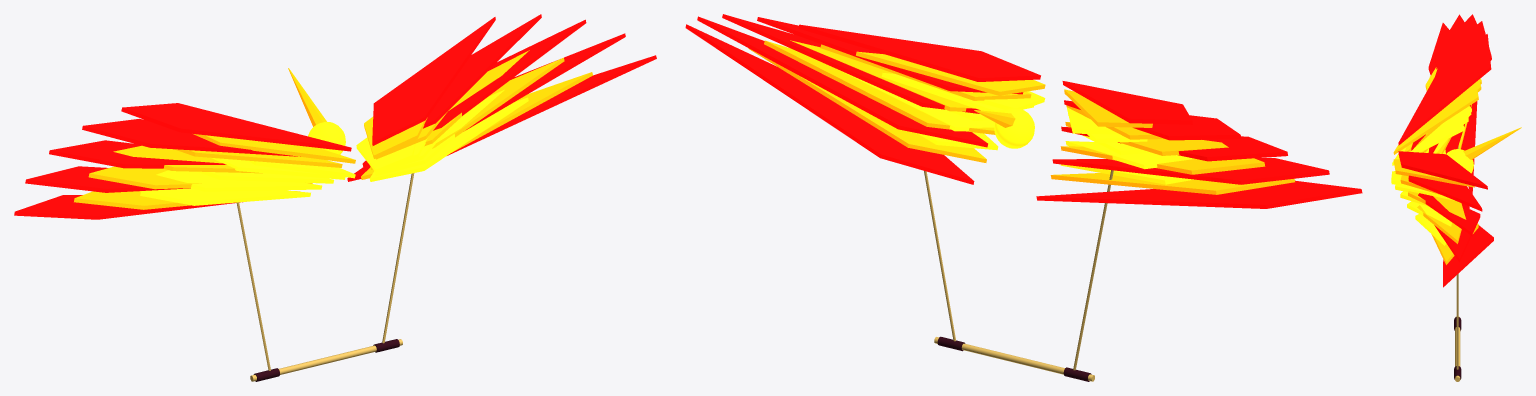
Rendered from glider_phoenix.glb.
3 views of the same model, side by side, from view 1: azimuth 30°, elevation 25°; view 2: azimuth 150°, elevation 25°; view 3: azimuth 270°, elevation 25° (orthographic). The views are drawn at different scales.
Parts seen in each view (by area): view 1: glider_phoenix; view 2: glider_phoenix; view 3: glider_phoenix.
Boxes of the visible parts, left/top/right/bottom form: glider_phoenix: left=14, top=14, right=656, bottom=381; glider_phoenix: left=685, top=14, right=1362, bottom=381; glider_phoenix: left=1391, top=14, right=1521, bottom=381.
Size of the model in its own units: 3.44 by 1.48 by 0.7215.
Materials: 5 (2 with a texture image).
